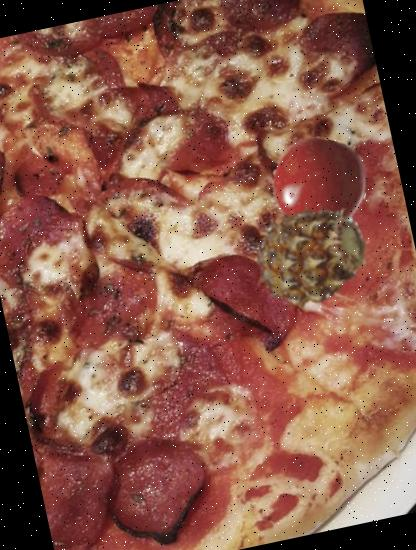Pineapple: (238, 185, 378, 325)
Tomato: (262, 129, 376, 243)
